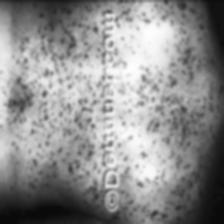Non-Cancerous Skin Condition: (3, 2, 99, 198), (125, 0, 197, 220)
